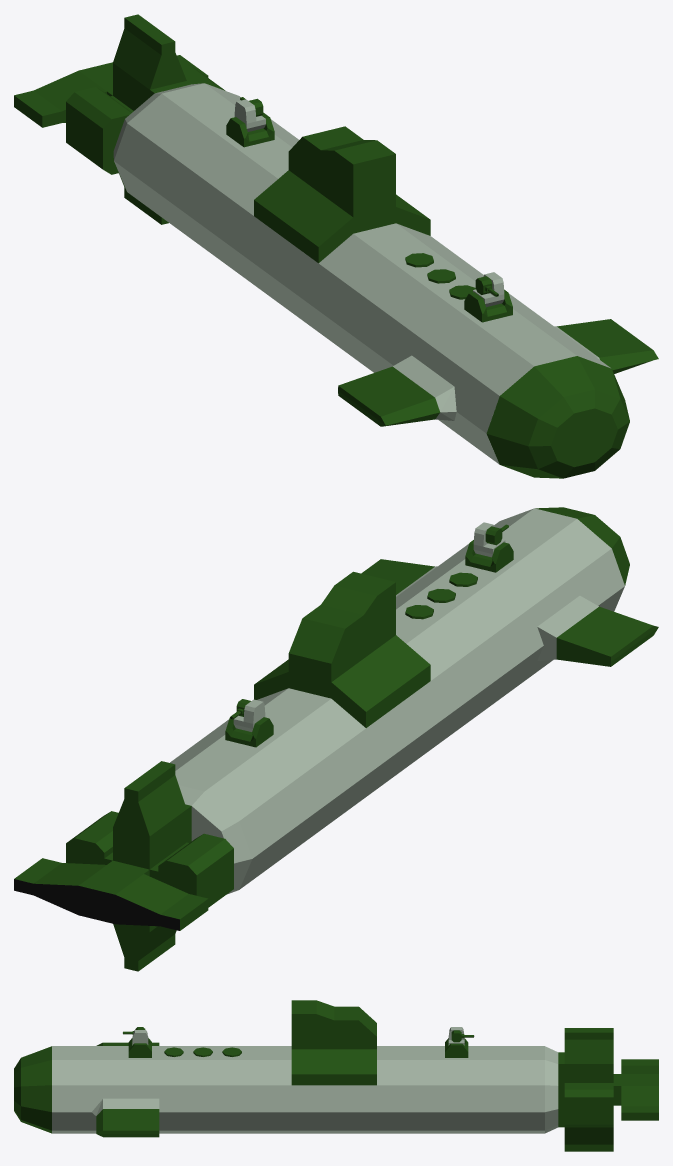
Rendered from combat_submarine_1.glb.
3 renders of one model, top to bottom at view 1: azimuth 30°, elevation 25°; view 2: azimuth 150°, elevation 25°; view 3: azimuth 270°, elevation 25°, orthographic. The views are drawn at different scales.
Parts seen in each view (by area): view 1: base, turretbase_2_base, turretbase_1_base; view 2: base, turretbase_1_base, turretbase_2_base; view 3: base, turretbase_1_base, turretbase_2_base.
Boxes of the visible parts, bbox=[...] form: base: bbox=[14, 14, 658, 478]; turretbase_2_base: bbox=[226, 112, 274, 147]; turretbase_1_base: bbox=[464, 289, 512, 322]; base: bbox=[14, 507, 658, 971]; turretbase_1_base: bbox=[465, 540, 513, 572]; turretbase_2_base: bbox=[225, 717, 273, 747]; base: bbox=[14, 1000, 658, 1151]; turretbase_1_base: bbox=[128, 1038, 151, 1057]; turretbase_2_base: bbox=[445, 1038, 468, 1057].
Size of the model in its own units: 1.15 by 0.8672 by 3.57.
